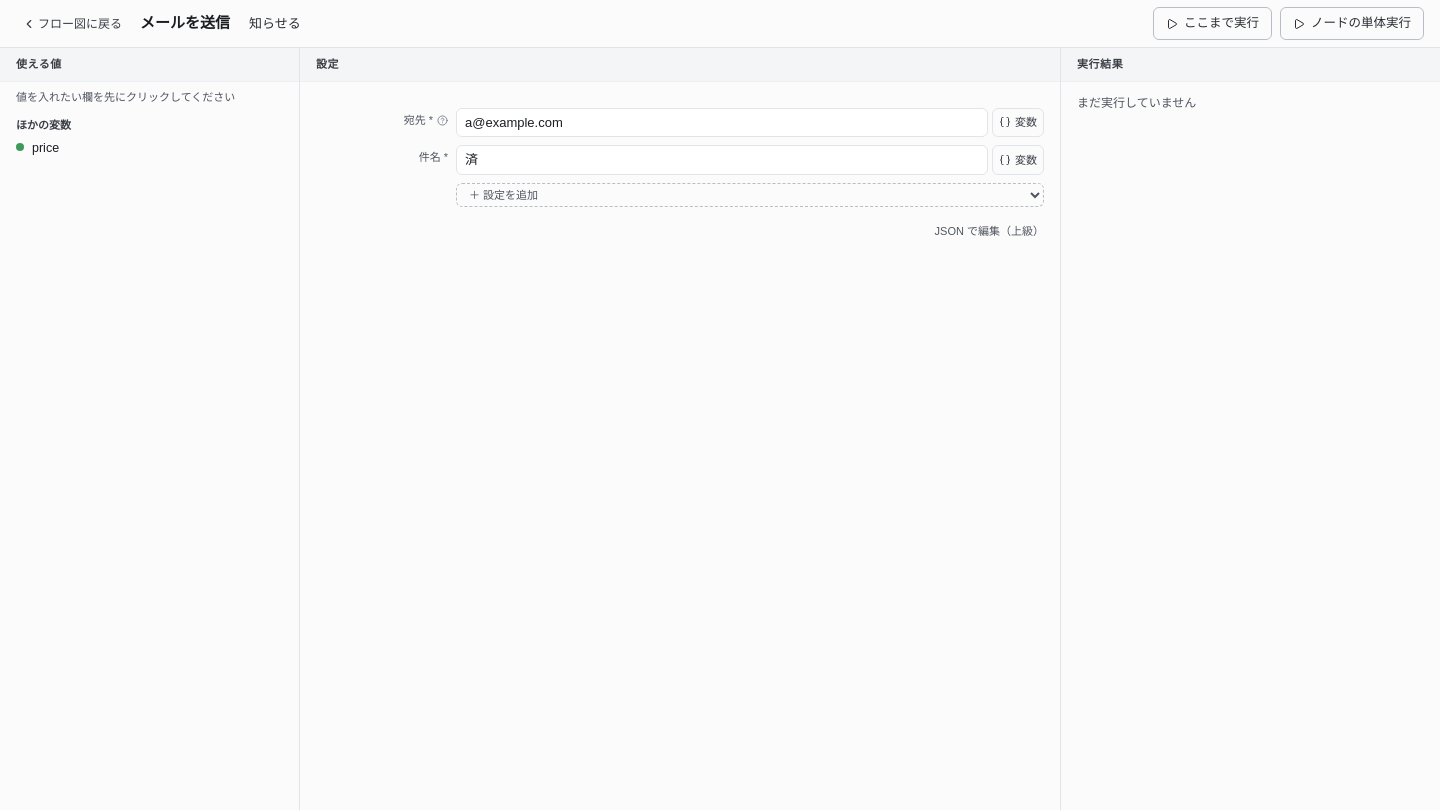
the settings of the node opened full size › shows what the node needs, and keeps the rest behind one 「＋ 設定を追加」
The width and height of the screenshot is (1440, 810).
Expected: the field named "表示名" holds "知らせる", x1=242 y1=11 x2=662 y2=36
Expected: the field with placeholder "このノードで何をするか" is not shown
Select "メモ" in the dropdown named "＋ 設定を追加" at (750,194), box x1=456 y1=182 x2=1044 y2=206
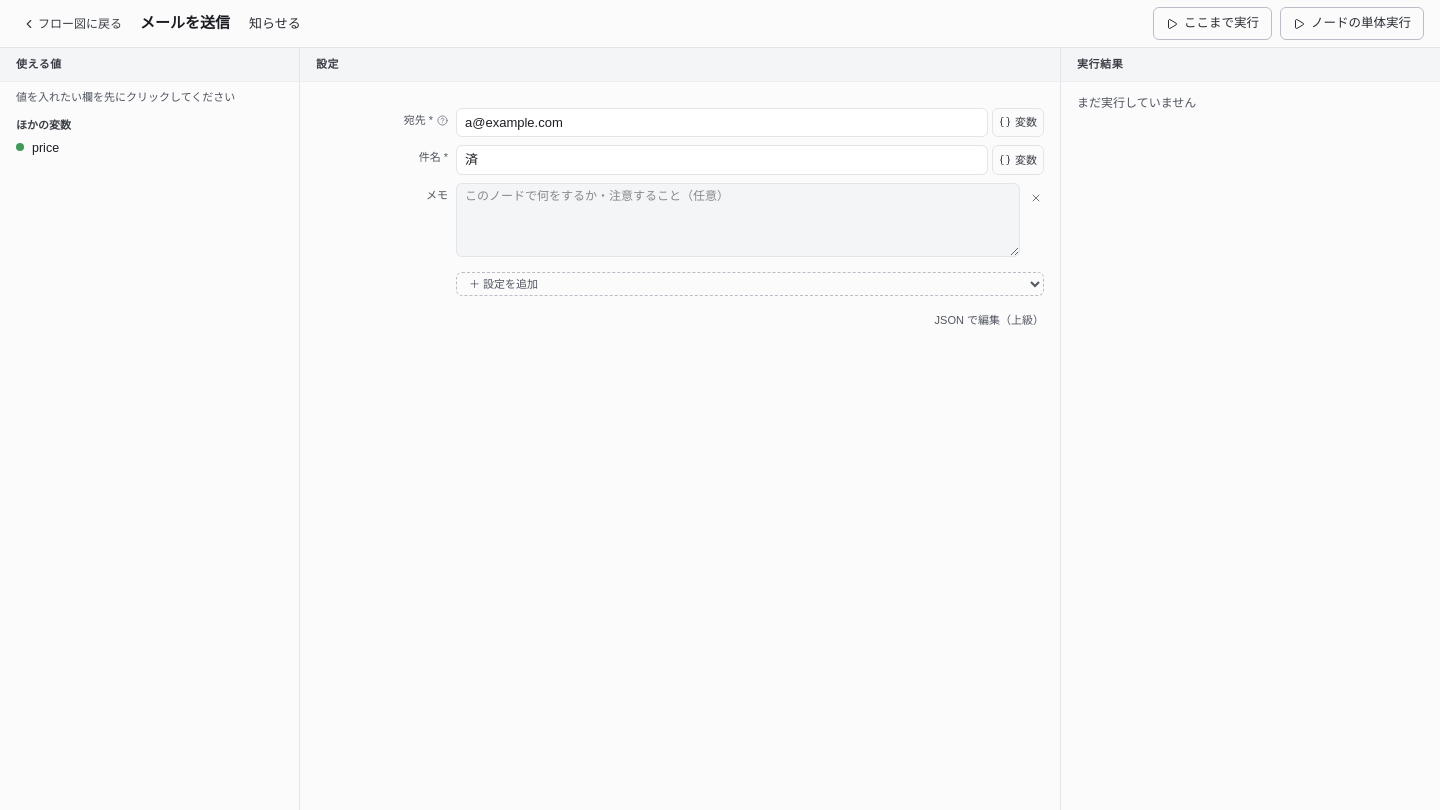
Expected: the text box with placeholder "このノードで何をするか・注意すること（任意）" is shown, x1=456 y1=182 x2=1020 y2=256
